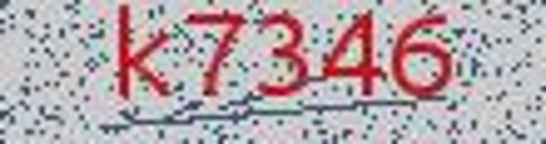3: (252, 9, 313, 101)
4: (318, 3, 388, 107)
6: (388, 9, 457, 104)
7: (181, 9, 247, 113)
k: (107, 2, 177, 116)
